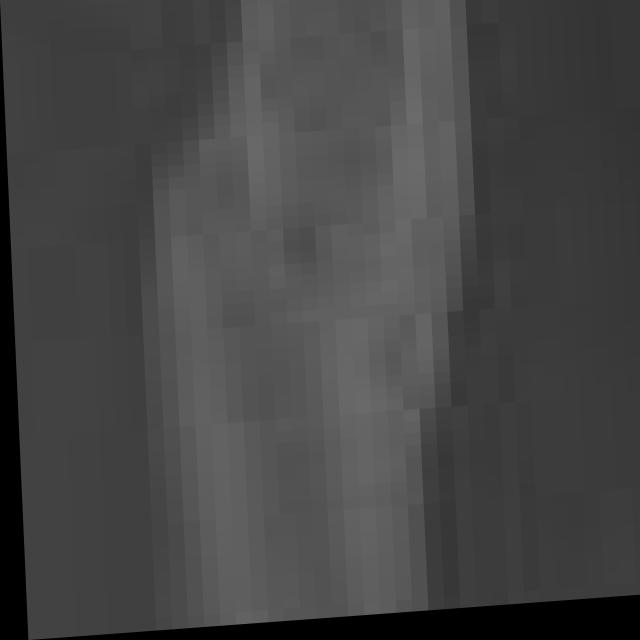fracture: (14, 0, 640, 615)
